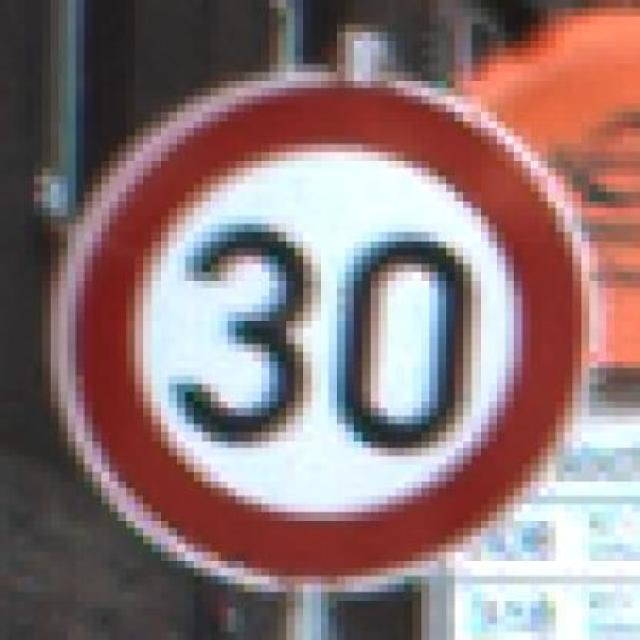Speed Limit 30 KMPh: (33, 32, 615, 600)
